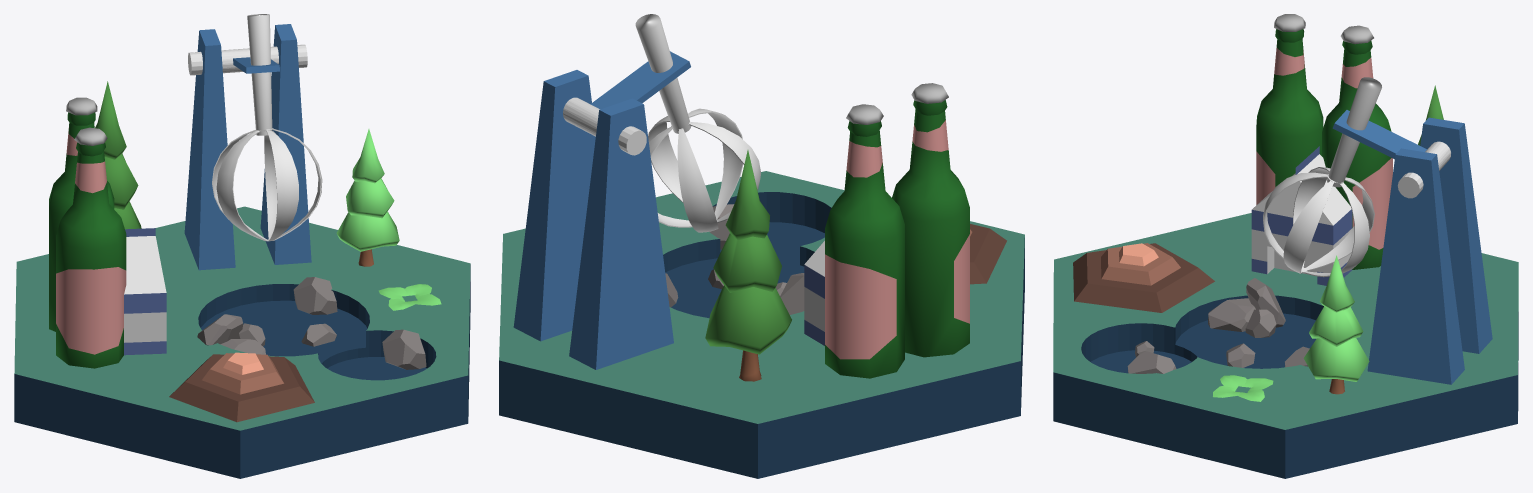
Rendered from Macro - Mineral lvl 3 WM1 rev.fbx.
3 renders of one model, left to right at view 1: azimuth 30°, elevation 25°; view 2: azimuth 150°, elevation 25°; view 3: azimuth 270°, elevation 25°, orthographic. The views are drawn at different scales.
Visible parts, largest first — view 1: Cylinder.020, drink_003.001, Cube.002, Cube.001, Circle.001, milkbox2.002, Cylinder.070, Tree_Spruce_tiny_01.004, drink_003, Tree_Spruce_tiny_01.003, Cylinder.003, Rock Type2 02 mesh.002 (+8 smaller); view 2: Cylinder.020, Cube.002, drink_003, drink_003.001, Cube.001, Tree_Spruce_tiny_01.003, Circle.001, Cylinder.003, Cube.004, milkbox2.002, Cylinder.002, Cylinder.070 (+1 smaller); view 3: Cylinder.020, Cube.001, drink_003.001, Cube.002, drink_003, Circle.001, milkbox2.002, Tree_Spruce_tiny_01.004, Cylinder.070, Rock Type2 02 mesh.002, Cylinder.003, Cylinder.072 (+6 smaller).
Boxes of the visible parts, <box> form: Cylinder.020: <box>14,206,470,478</box>; drink_003.001: <box>56,127,126,368</box>; Cube.002: <box>184,29,235,270</box>; Cube.001: <box>260,24,311,264</box>; Circle.001: <box>212,128,322,241</box>; milkbox2.002: <box>124,228,166,355</box>; Cylinder.070: <box>169,354,314,422</box>; Tree_Spruce_tiny_01.004: <box>336,129,399,266</box>; drink_003: <box>49,97,114,331</box>; Tree_Spruce_tiny_01.003: <box>95,81,141,229</box>; Cylinder.003: <box>247,14,272,135</box>; Rock Type2 02 mesh.002: <box>197,314,265,354</box>; Cylinder.020: <box>499,171,1024,478</box>; Cube.002: <box>569,98,673,369</box>; drink_003: <box>825,104,904,378</box>; drink_003.001: <box>892,83,969,357</box>; Cube.001: <box>513,70,595,341</box>; Tree_Spruce_tiny_01.003: <box>705,150,791,381</box>; Circle.001: <box>648,108,761,232</box>; Cylinder.003: <box>635,14,691,133</box>; Cube.004: <box>590,51,690,109</box>; milkbox2.002: <box>804,241,824,345</box>; Cylinder.002: <box>563,97,646,155</box>; Cylinder.070: <box>970,224,1006,284</box>; Cylinder.020: <box>1053,213,1518,478</box>; Cube.001: <box>1367,148,1464,384</box>; drink_003.001: <box>1256,14,1323,204</box>; Cube.002: <box>1420,117,1492,353</box>; drink_003: <box>1322,25,1392,269</box>; Circle.001: <box>1263,167,1374,277</box>; milkbox2.002: <box>1251,146,1352,285</box>; Tree_Spruce_tiny_01.004: <box>1303,255,1369,394</box>; Cylinder.070: <box>1073,243,1214,312</box>; Rock Type2 02 mesh.002: <box>1208,278,1285,337</box>; Cylinder.003: <box>1327,77,1381,187</box>; Cylinder.072: <box>1101,243,1180,285</box>.
Size of the model in its own units: 197 by 128 by 172.
